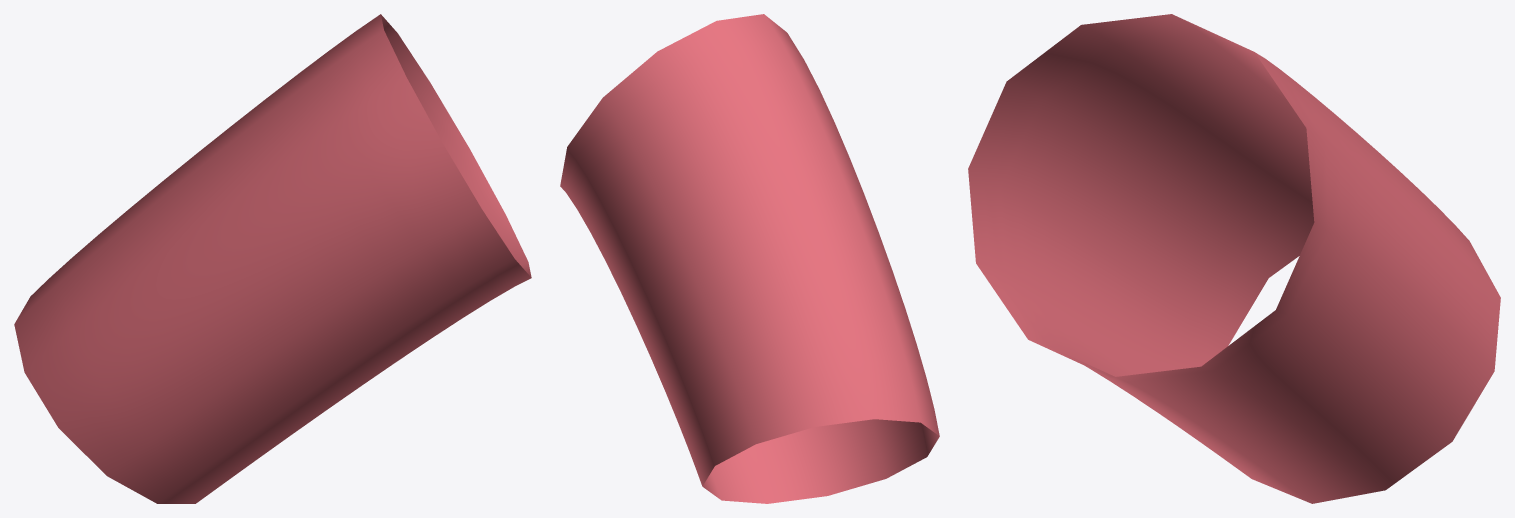
3 views of the same model, side by side, from view 1: azimuth 30°, elevation 25°; view 2: azimuth 150°, elevation 25°; view 3: azimuth 270°, elevation 25° (orthographic). The views are drawn at different scales.
Parts seen in each view (by area): view 1: ZA_9db7f5d7a189dd39; view 2: ZA_9db7f5d7a189dd39; view 3: ZA_9db7f5d7a189dd39.
Part boxes in pixels (bbox=[...]): ZA_9db7f5d7a189dd39: bbox=[14, 14, 531, 503]; ZA_9db7f5d7a189dd39: bbox=[560, 14, 939, 503]; ZA_9db7f5d7a189dd39: bbox=[968, 14, 1500, 503].
Bounding box in the file's own units: 0.0258 × 0.0267 × 0.0231.
